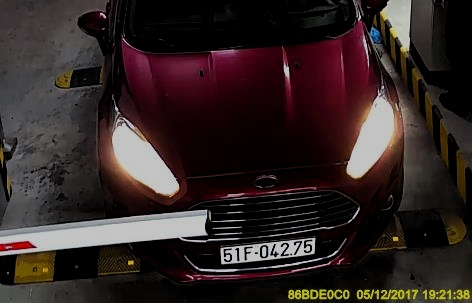plate: (221, 231, 315, 266)
